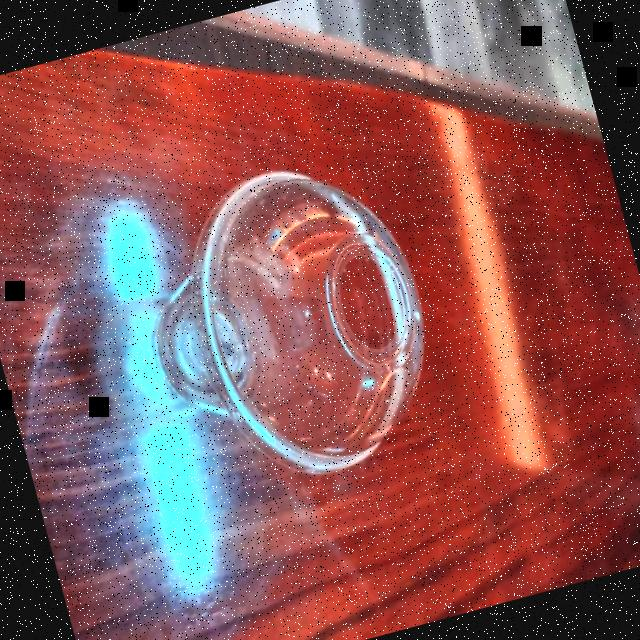plastic_cup_lid: (156, 133, 466, 514)
